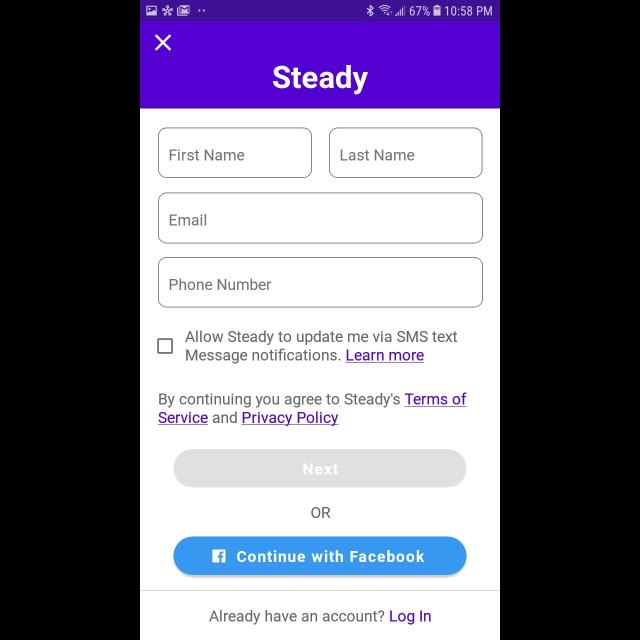checkbox: (158, 338, 172, 354)
icon: (156, 34, 172, 51)
input: (158, 192, 482, 244), (158, 256, 482, 308), (159, 128, 313, 178), (330, 128, 482, 178)
text: (158, 392, 466, 426), (185, 331, 457, 364), (209, 610, 431, 624), (274, 65, 368, 95), (170, 278, 272, 290), (170, 150, 244, 162), (341, 150, 415, 162), (170, 214, 207, 226), (312, 506, 331, 518)
textbutton: (174, 448, 466, 488), (174, 536, 466, 576)
uppertaskbar: (140, 1, 500, 22)
